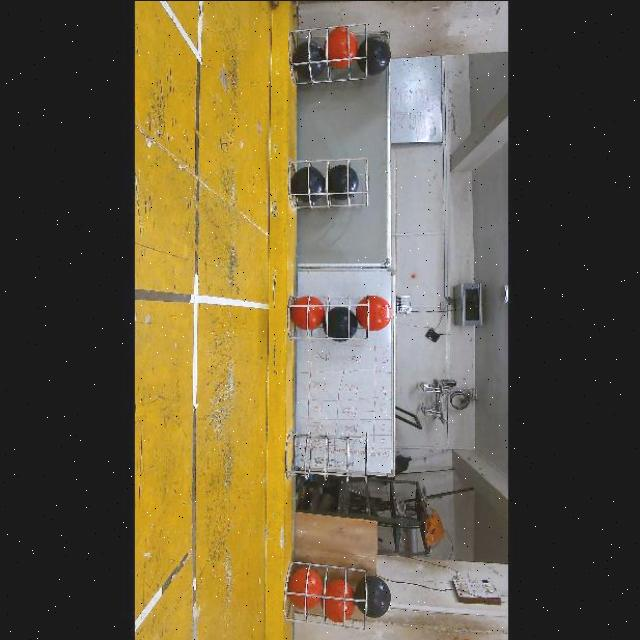P: (354, 575, 391, 618), (356, 35, 391, 75), (291, 40, 326, 78), (290, 166, 325, 203), (324, 306, 357, 342), (327, 164, 357, 200)
R: (321, 579, 354, 623), (287, 569, 322, 610), (326, 26, 357, 68), (355, 295, 391, 331), (290, 296, 325, 330)
S: (281, 560, 371, 632), (286, 21, 370, 87), (282, 428, 370, 486), (286, 156, 369, 212), (286, 294, 370, 342)
